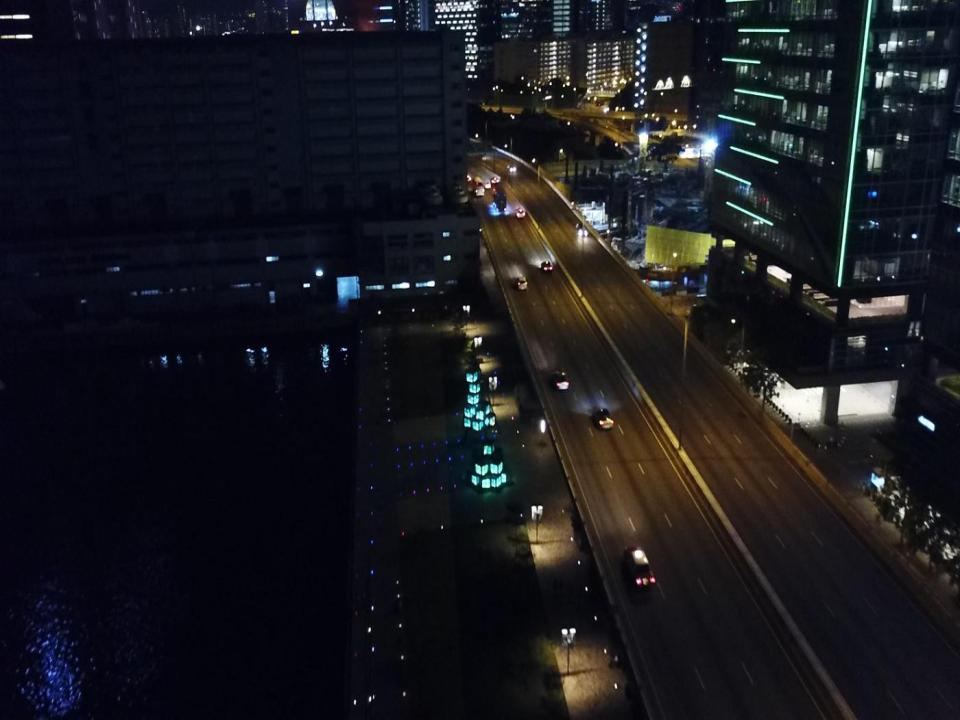bus: (493, 186, 507, 210), (474, 176, 485, 197)
car: (624, 546, 654, 590), (592, 407, 614, 430), (550, 371, 568, 389), (575, 223, 588, 237), (540, 260, 553, 273), (460, 173, 471, 182), (482, 180, 491, 189), (516, 209, 524, 218), (507, 164, 516, 172), (492, 176, 499, 184)
van: (516, 276, 528, 290)
